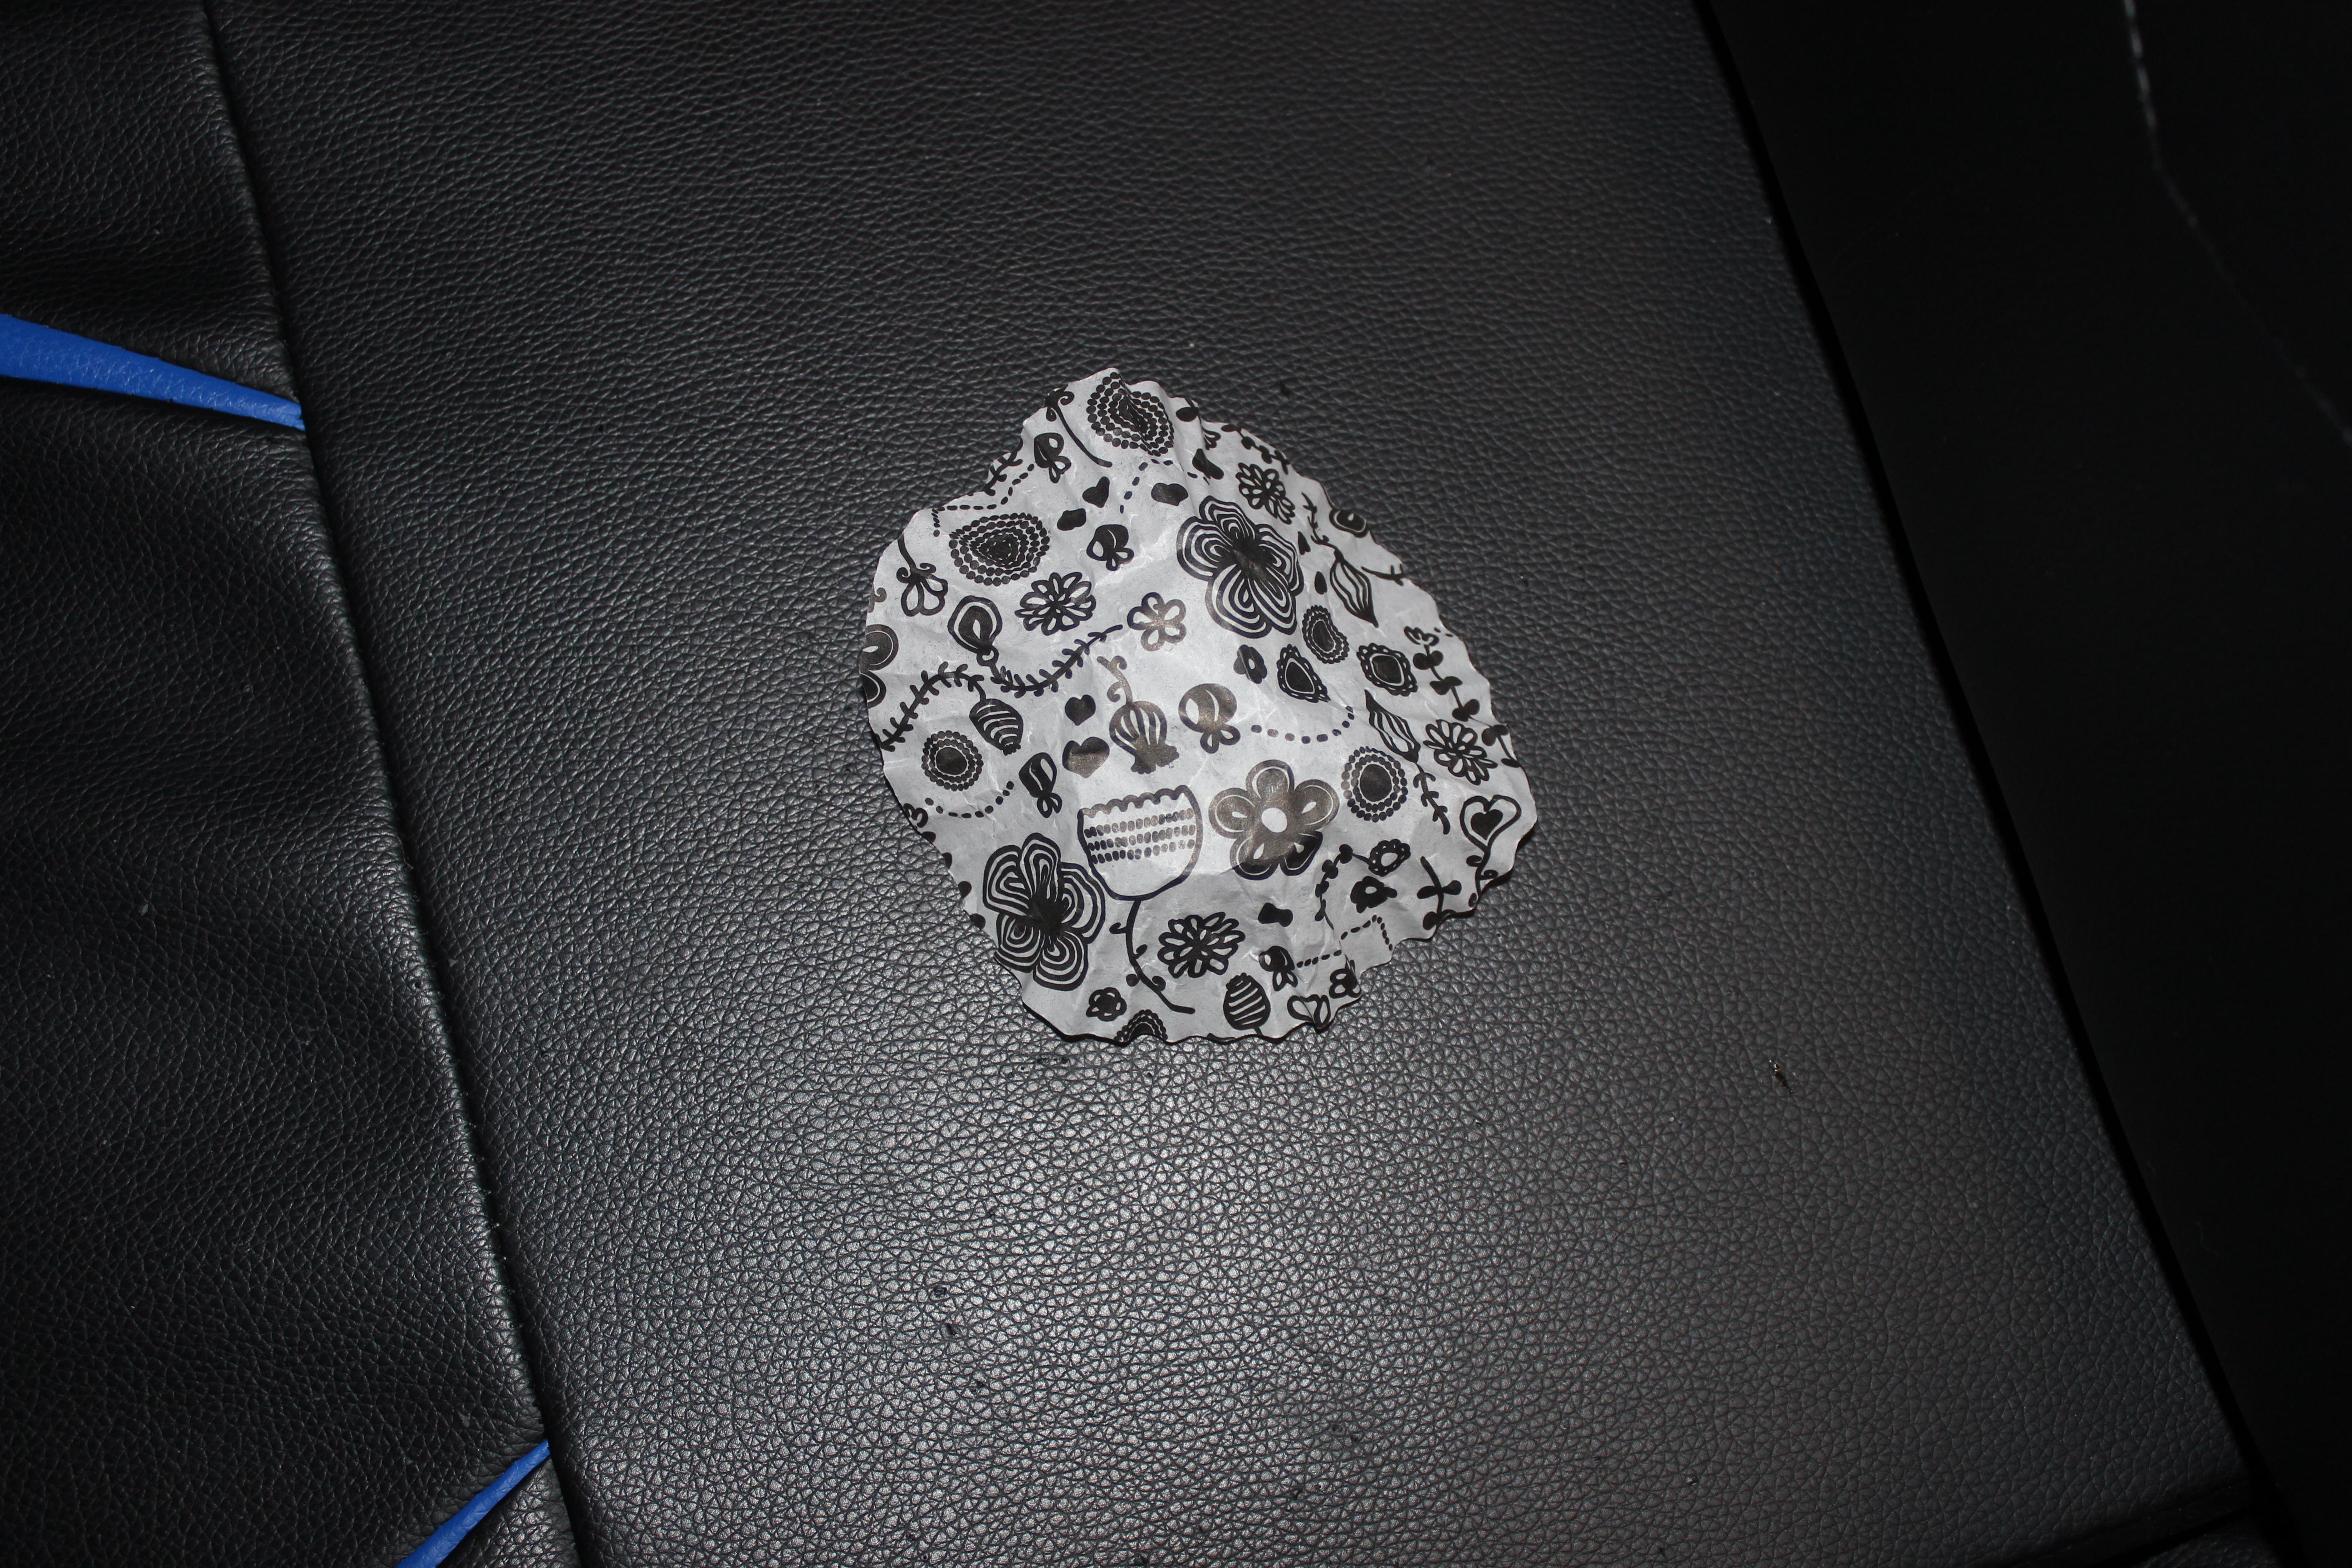cupcakePaper: (845, 347, 1568, 1074)
